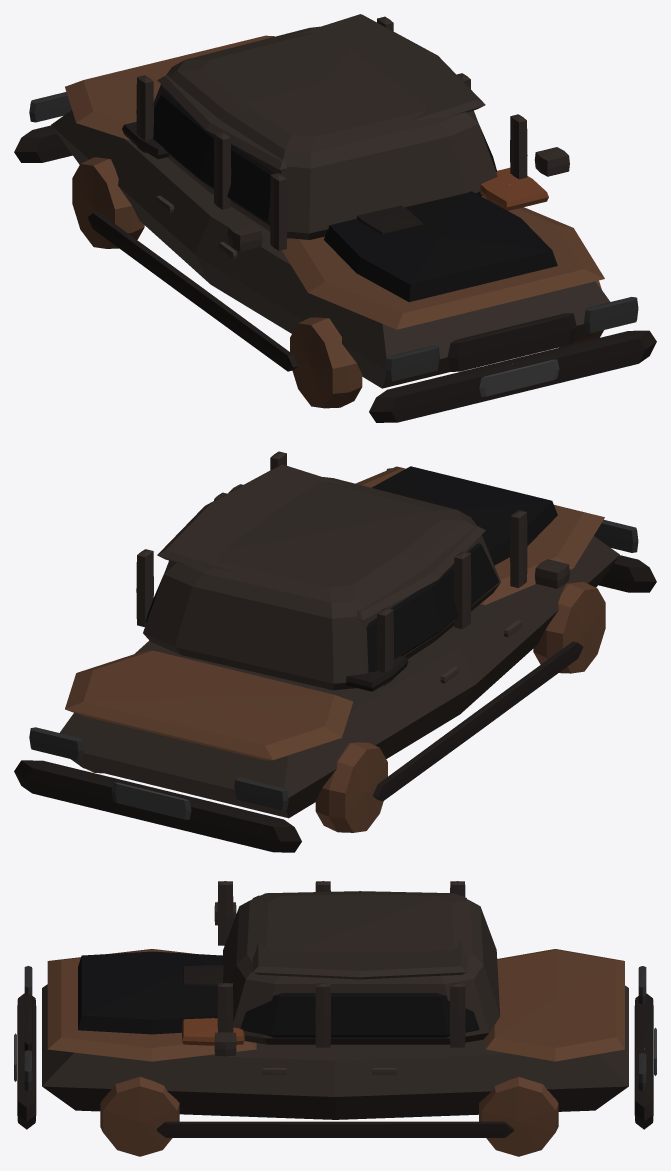
Rendered from s-burnt-2.glb.
3 renders of one model, top to bottom at view 1: azimuth 30°, elevation 25°; view 2: azimuth 150°, elevation 25°; view 3: azimuth 270°, elevation 25°, orthographic. The views are drawn at different scales.
Visible parts, largest first — view 1: p; view 2: p; view 3: p.
Part boxes in pixels (x1=…): p: x1=14, y1=14, x2=656, y2=422; p: x1=14, y1=451, x2=656, y2=852; p: x1=14, y1=881, x2=656, y2=1156.
Bounding box in the file's own units: 2.08 × 1.22 × 4.
